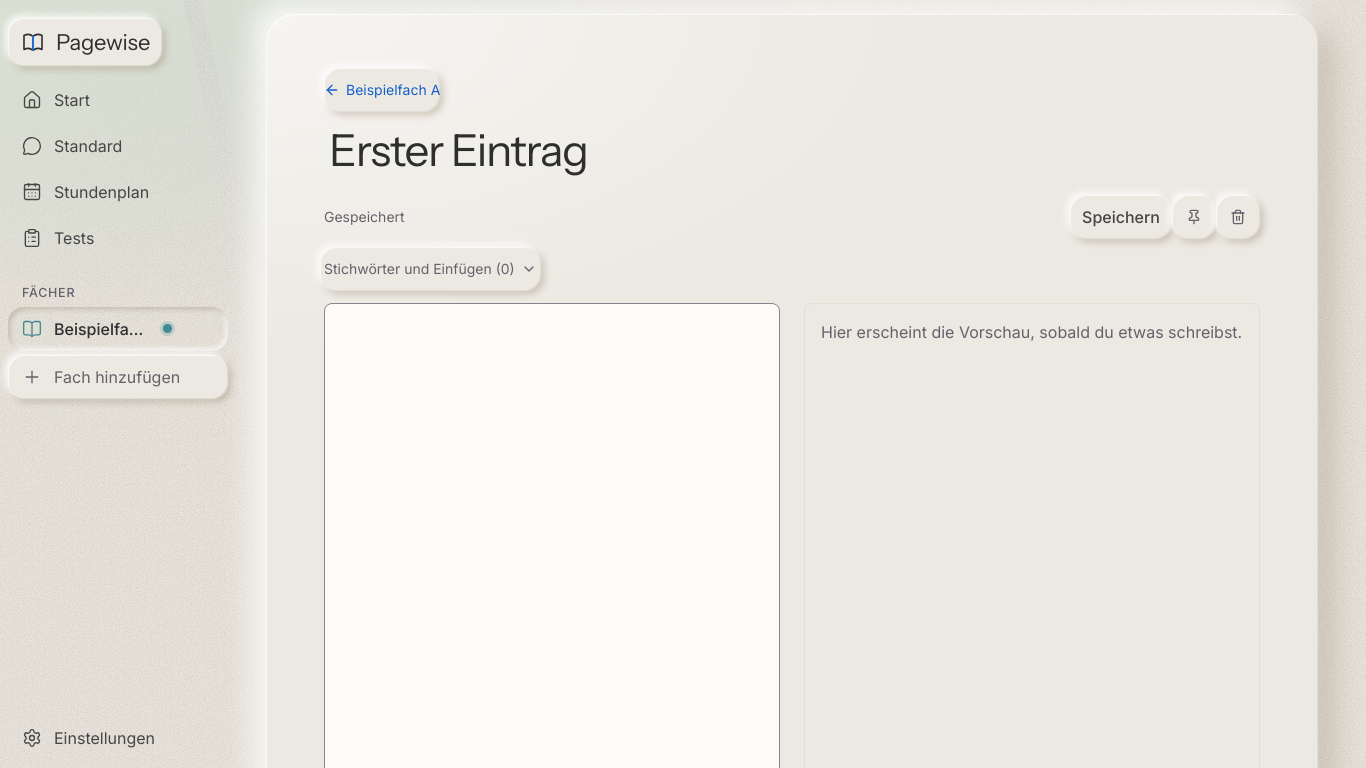
Test: Rückweg aus dem Editor: Liste im Blick (M4-T017) › Löschen im Editor: scrollIntoView aufs Ziel, Fokus auf der Liste
Click the button named "Löschen".
click(1238, 217)  # box [1216,195,1260,239]
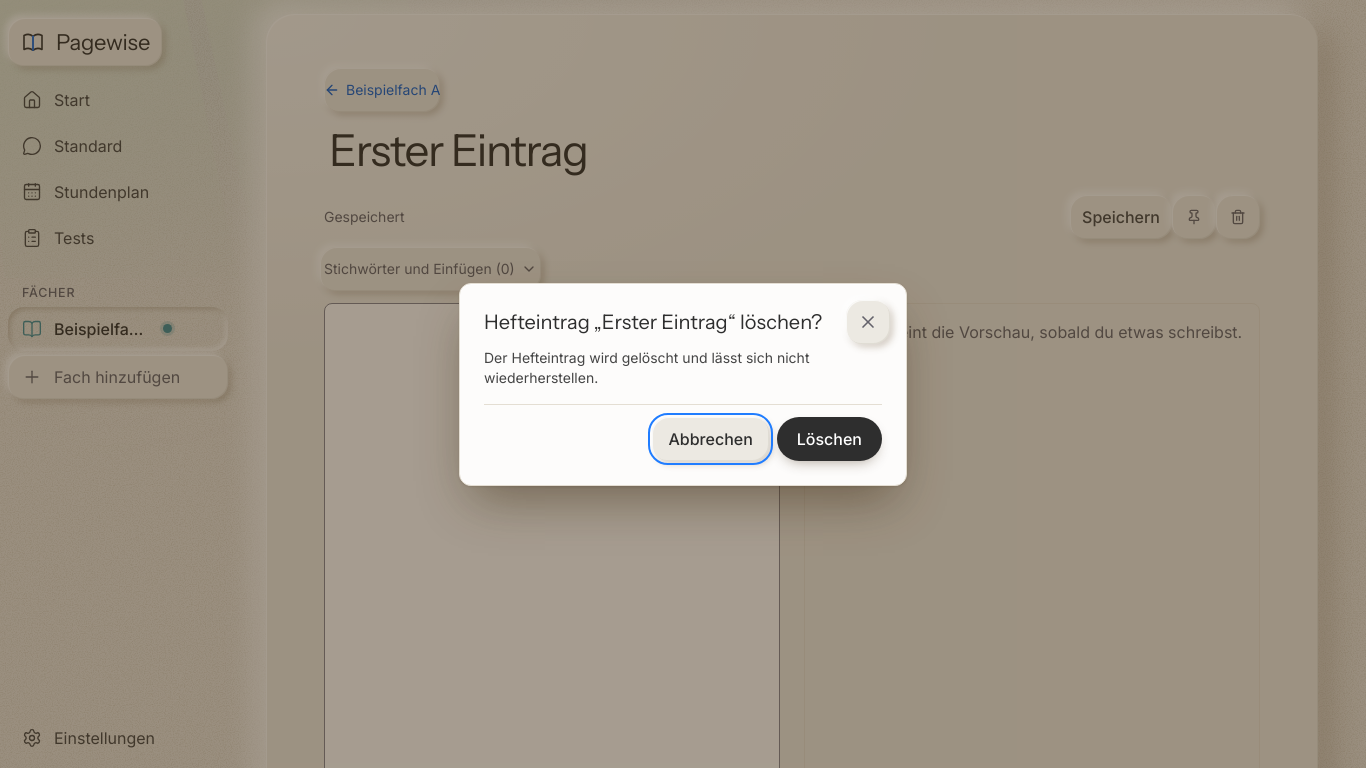
Click the button "Löschen".
click(829, 438)  # box [777,416,882,460]
(page scrolled)
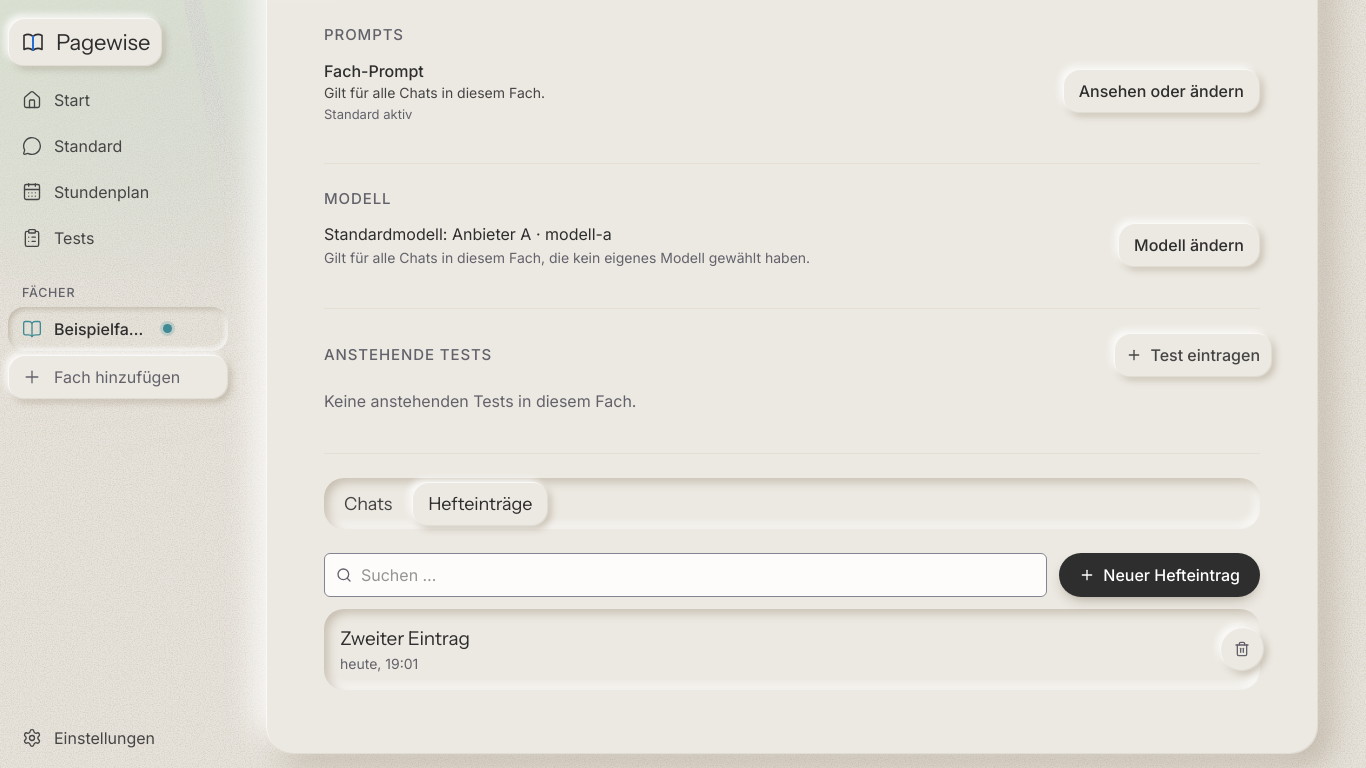
Now the text "Zweiter Eintrag" is shown, box [340,625,470,654]
